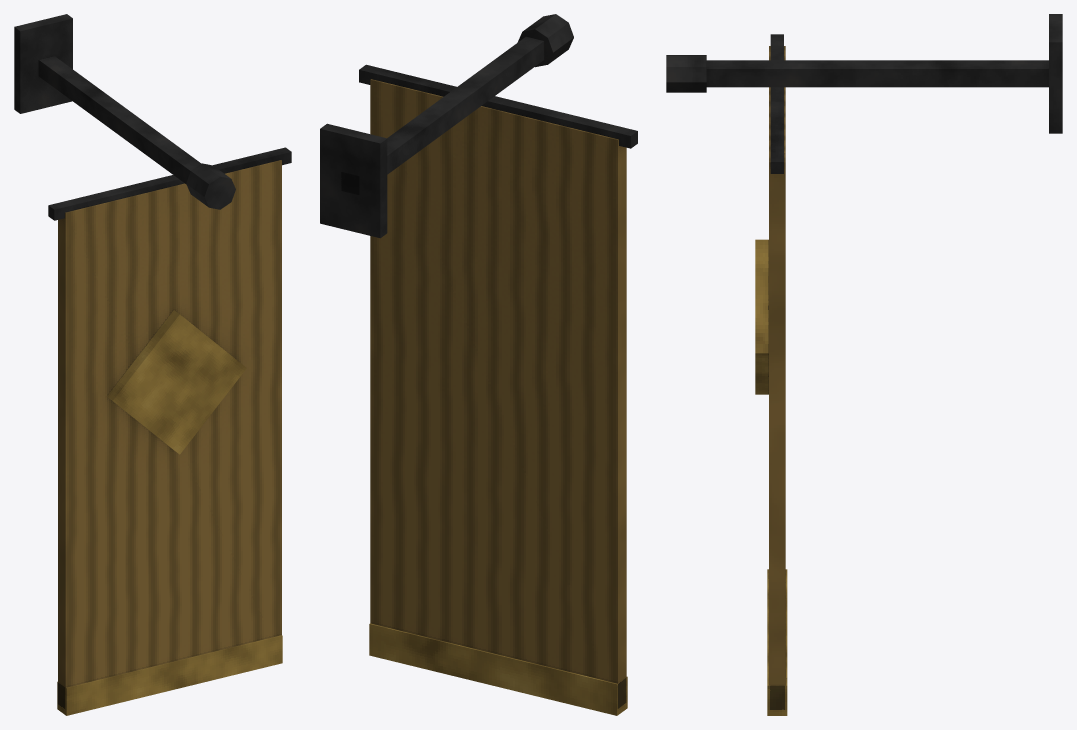
Rendered from siracusa_banner_bellone.glb.
3 renders of one model, left to right at view 1: azimuth 30°, elevation 25°; view 2: azimuth 150°, elevation 25°; view 3: azimuth 270°, elevation 25°, orthographic. The views are drawn at different scales.
Visible parts, largest first — view 1: siracusa_banner_bellone; view 2: siracusa_banner_bellone; view 3: siracusa_banner_bellone.
Boxes of the visible parts, box(x1,y1,x2,y2) form: siracusa_banner_bellone: box(14, 14, 291, 715); siracusa_banner_bellone: box(320, 14, 637, 715); siracusa_banner_bellone: box(666, 14, 1062, 715).
Bounding box in the file's own units: 0.9 × 2.07 × 1.18.
3 materials, 3 textured.
